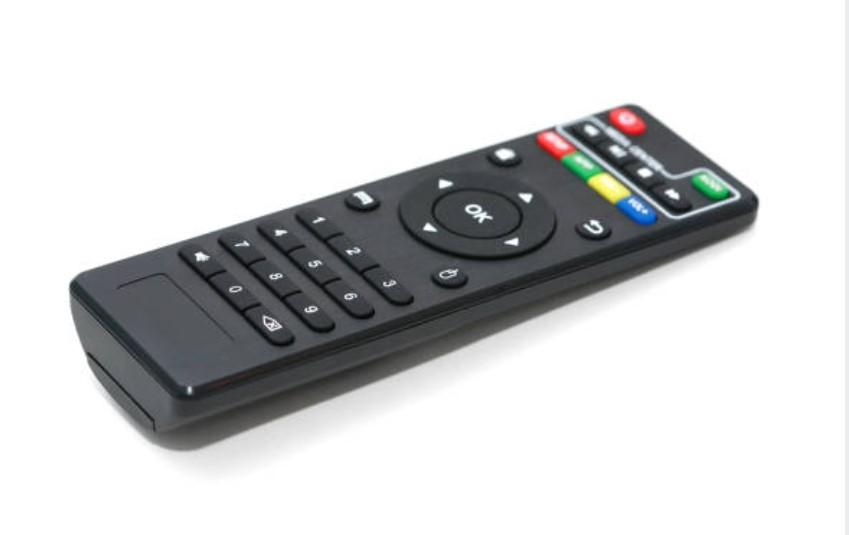Remote control: (68, 105, 760, 454)
